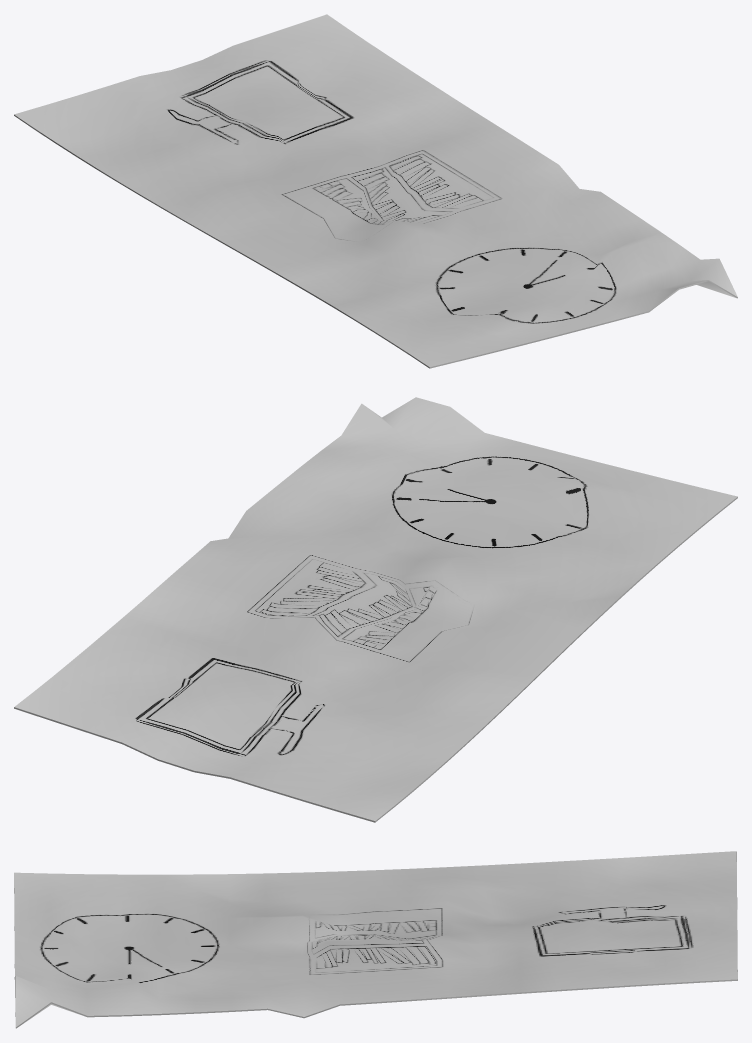
The model's file is note.fbx.
The picture shows the model from 3 angles, top to bottom: view 1: azimuth 30°, elevation 25°; view 2: azimuth 150°, elevation 25°; view 3: azimuth 270°, elevation 25°; orthographic projection. The views are drawn at different scales.
Visible parts, largest first — view 1: pPlane1; view 2: pPlane1; view 3: pPlane1.
Boxes of the visible parts, left/top/right/bottom form: pPlane1: left=14, top=14, right=737, bottom=368; pPlane1: left=14, top=397, right=737, bottom=822; pPlane1: left=14, top=851, right=737, bottom=1028.
Bounding box in the file's own units: 2.27 × 0.2197 × 4.02.
1 material, 1 textured.
